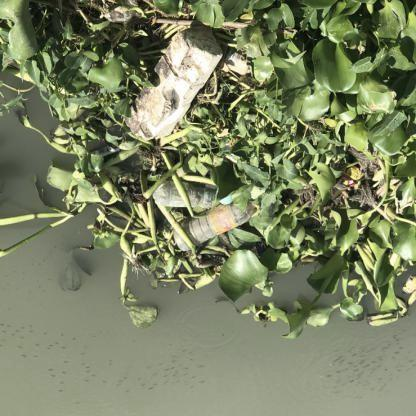Plastic: (122, 28, 223, 143), (182, 200, 263, 244), (152, 178, 214, 215)
